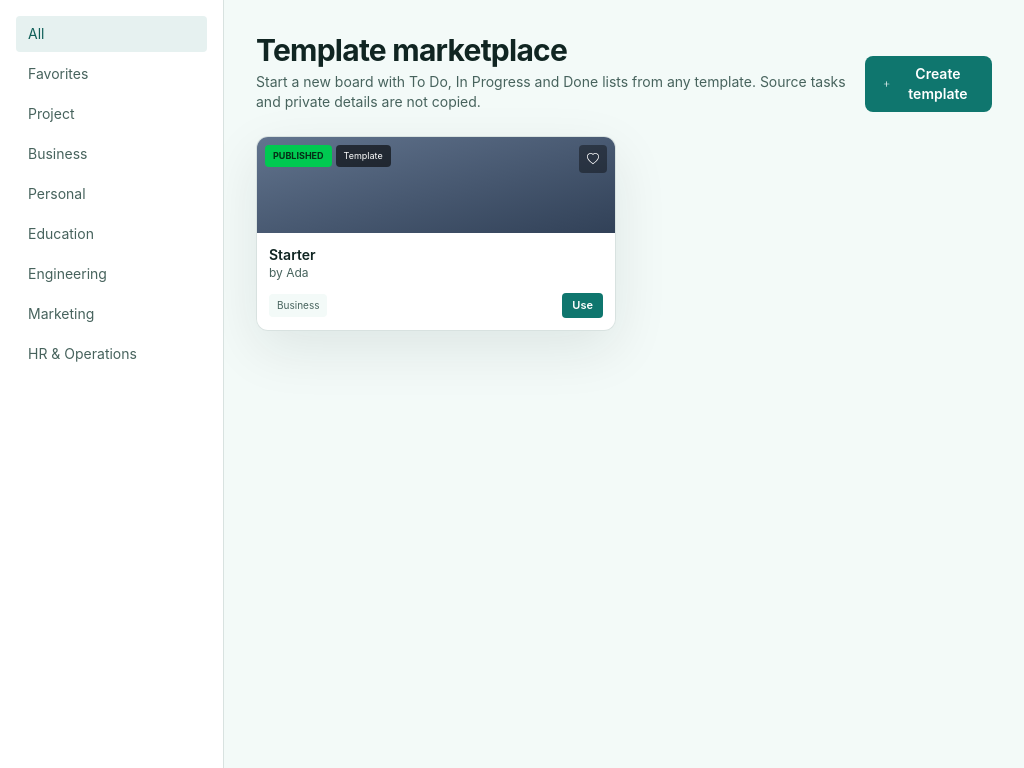
Test: use template action › shows the backend error, keeps the dialog open and never navigates on failure
Step 1. Click the button with aria-label "Use template Starter" → (583, 305), box 562,293 -> 603,318
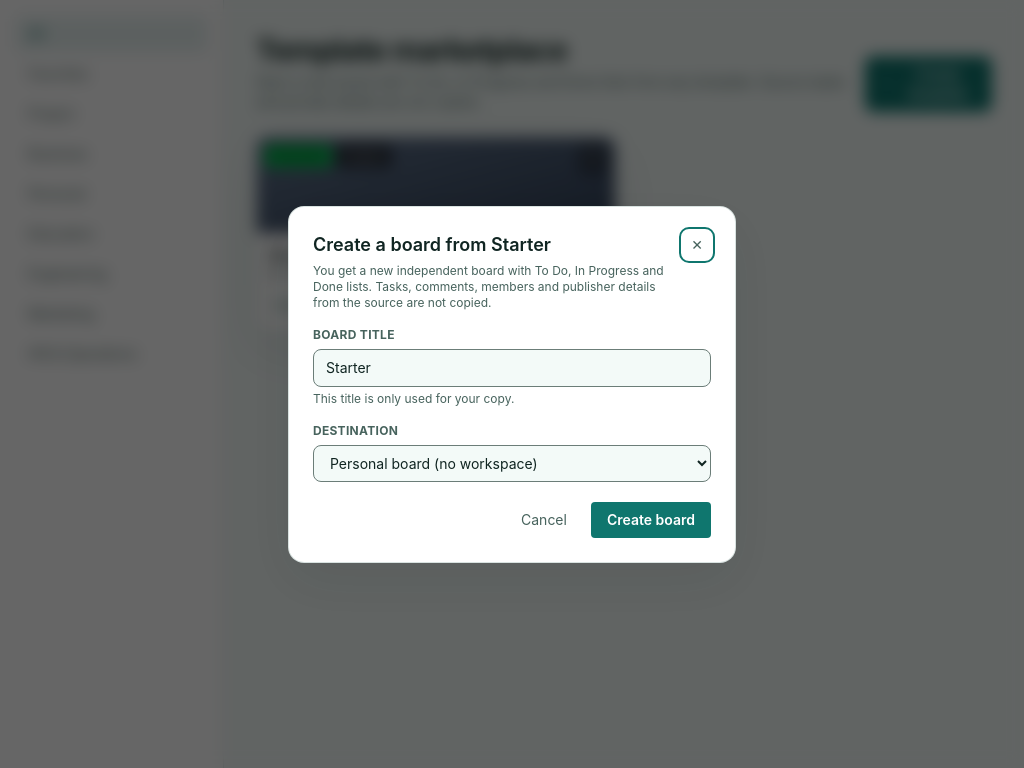
Step 2. Click the button "Create board" → (651, 520), box 591,502 -> 711,538
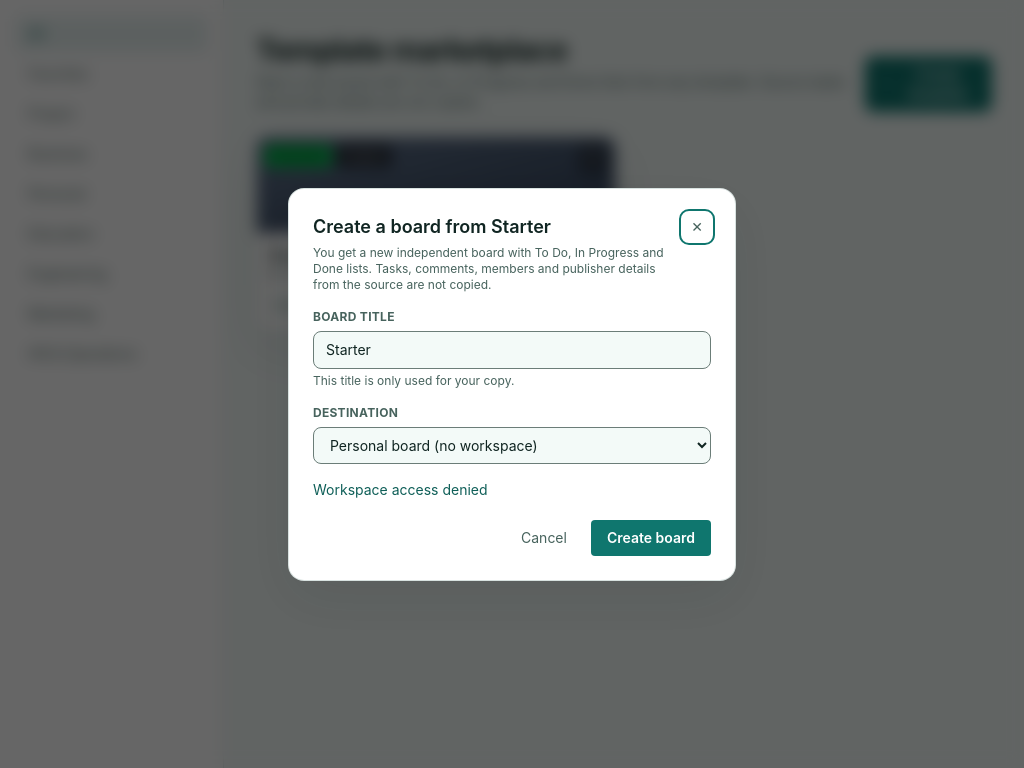
Now the dialog is shown, box 288,188 -> 736,580
Now the message reads "Workspace access denied", box 313,480 -> 488,498
